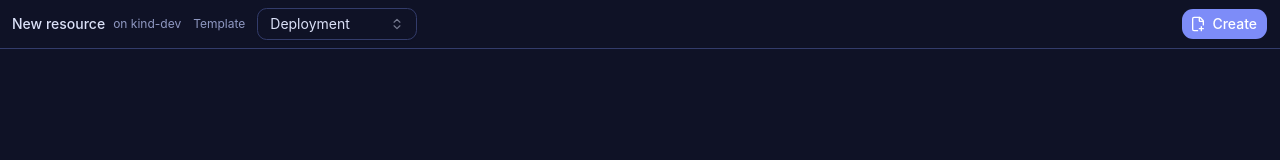
Test: NewResourceEditor › surfaces an apply error
What coordinates should you click on to do the following:
click the button "Create"
I would click on:
 (1225, 24)
Its box is [1181,8,1268,40].
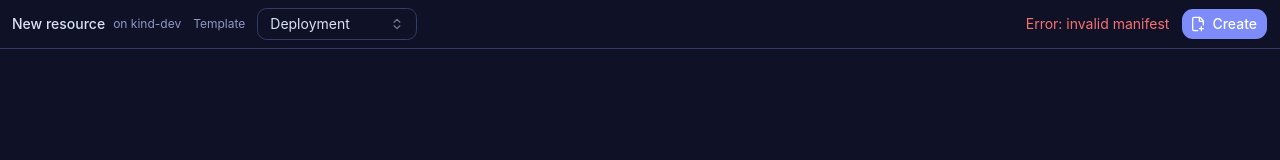
Expected: the text "Error: invalid manifest" is shown, [1026,14,1169,34]
